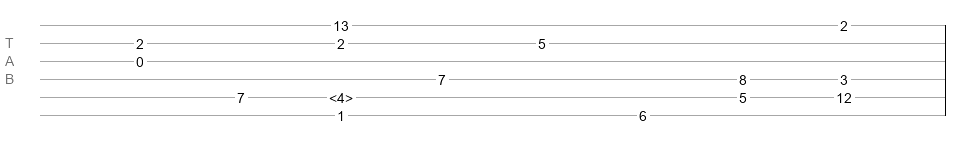0: (136, 54, 144, 64)
1: (337, 108, 345, 118)
12: (836, 90, 852, 100)
13: (333, 18, 349, 28)
2: (136, 36, 144, 46), (337, 36, 345, 46), (840, 18, 848, 28)
3: (840, 72, 848, 82)
5: (538, 36, 546, 46), (739, 90, 747, 100)
6: (639, 108, 647, 118)
7: (237, 90, 245, 100), (438, 72, 446, 82)
8: (739, 72, 747, 82)
harmonic: (329, 90, 353, 100)
